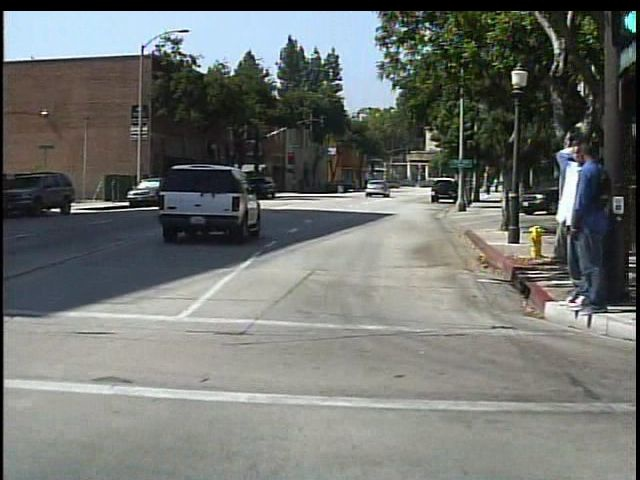person: (566, 141, 606, 318), (547, 143, 588, 311), (333, 175, 347, 196)
